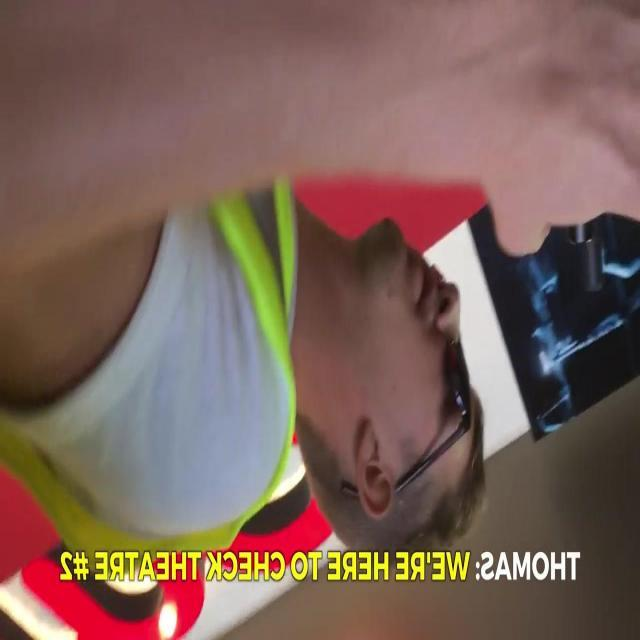reflective_jacket: (0, 112, 330, 568)
